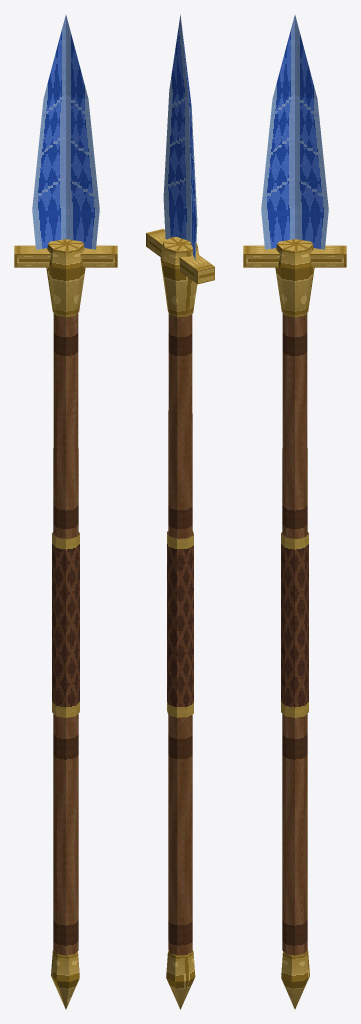
The model's file is lanca_de_safira.glb.
The picture shows the model from 3 angles, left to right: view 1: azimuth 90°, elevation 25°; view 2: azimuth 210°, elevation 25°; view 3: azimuth 270°, elevation 25°; orthographic projection.
Visible parts, largest first — view 1: lanca_de_safira; view 2: lanca_de_safira; view 3: lanca_de_safira.
Boxes of the visible parts, x1,y1,x2,y2 form: lanca_de_safira: (14, 15, 117, 1009); lanca_de_safira: (146, 14, 214, 1009); lanca_de_safira: (243, 15, 346, 1009).
Bounding box in the file's own units: 0.088 × 2.34 × 0.22.
Materials: 1 (1 with a texture image).
